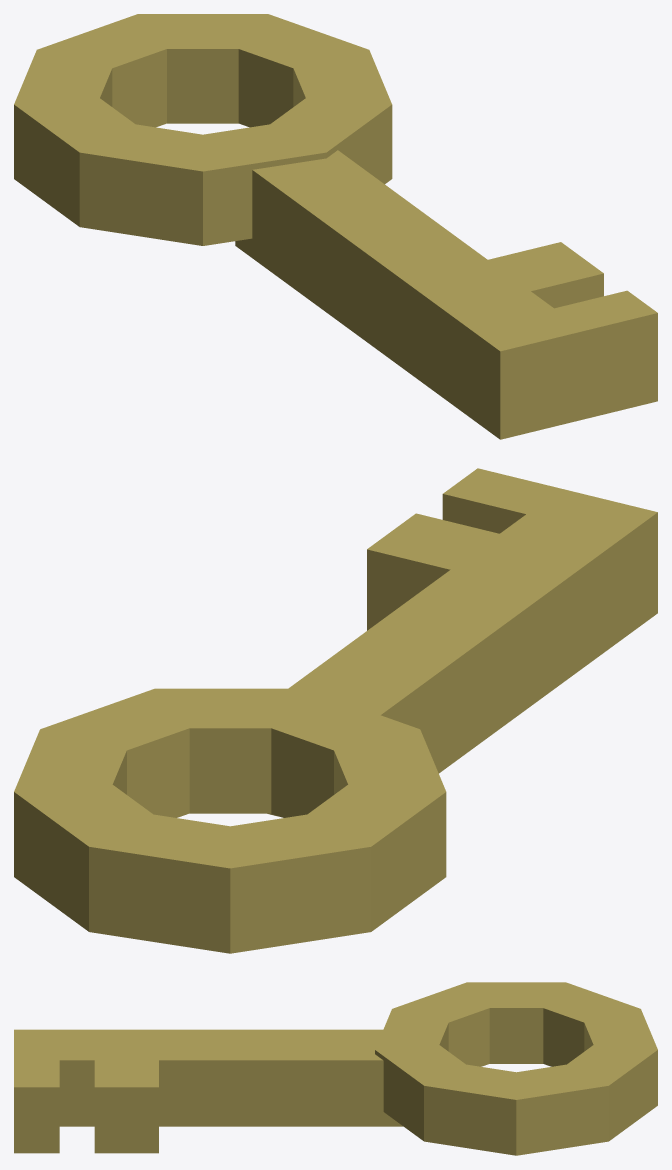
Rendered from goldkey.fbx.
3 views of the same model, one above another, from view 1: azimuth 30°, elevation 25°; view 2: azimuth 150°, elevation 25°; view 3: azimuth 270°, elevation 25° (orthographic). The views are drawn at different scales.
Visible parts, largest first — view 1: pCube2; view 2: pCube2; view 3: pCube2.
Boxes of the visible parts, x1,y1,x2,y2 form: pCube2: (14,14,657,439); pCube2: (14,468,657,953); pCube2: (14,982,657,1155).
Bounding box in the file's own units: 11.23 × 3.14 × 25.94.
